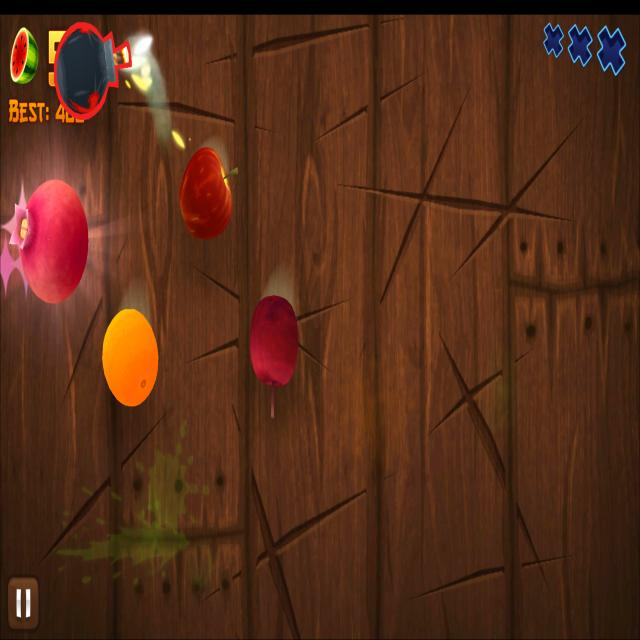bomb: (54, 19, 132, 122)
fruit: (16, 178, 90, 305), (101, 307, 159, 409), (178, 146, 232, 240), (248, 294, 300, 390)
